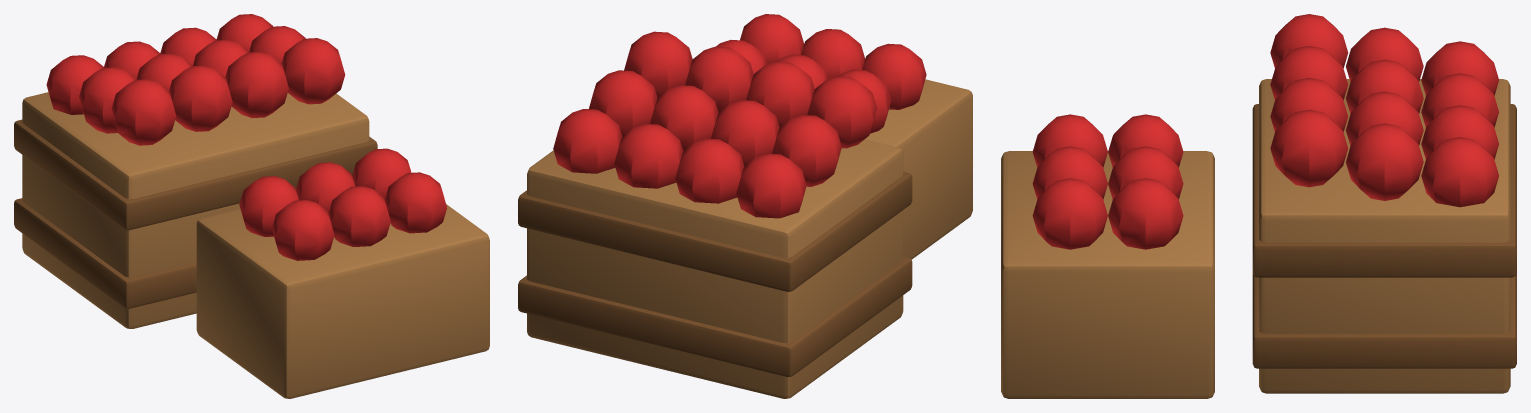
The model's file is MidOrchard.fbx.
The picture shows the model from 3 angles, left to right: view 1: azimuth 30°, elevation 25°; view 2: azimuth 150°, elevation 25°; view 3: azimuth 270°, elevation 25°; orthographic projection. The views are drawn at different scales.
Parts seen in each view (by area): view 1: MidOrchard; view 2: MidOrchard; view 3: MidOrchard.
Part boxes in pixels (bbox=[...]): MidOrchard: bbox=[14, 14, 489, 398]; MidOrchard: bbox=[518, 14, 972, 398]; MidOrchard: bbox=[1001, 14, 1516, 398].
Bounding box in the file's own units: 275 × 230 × 410.
